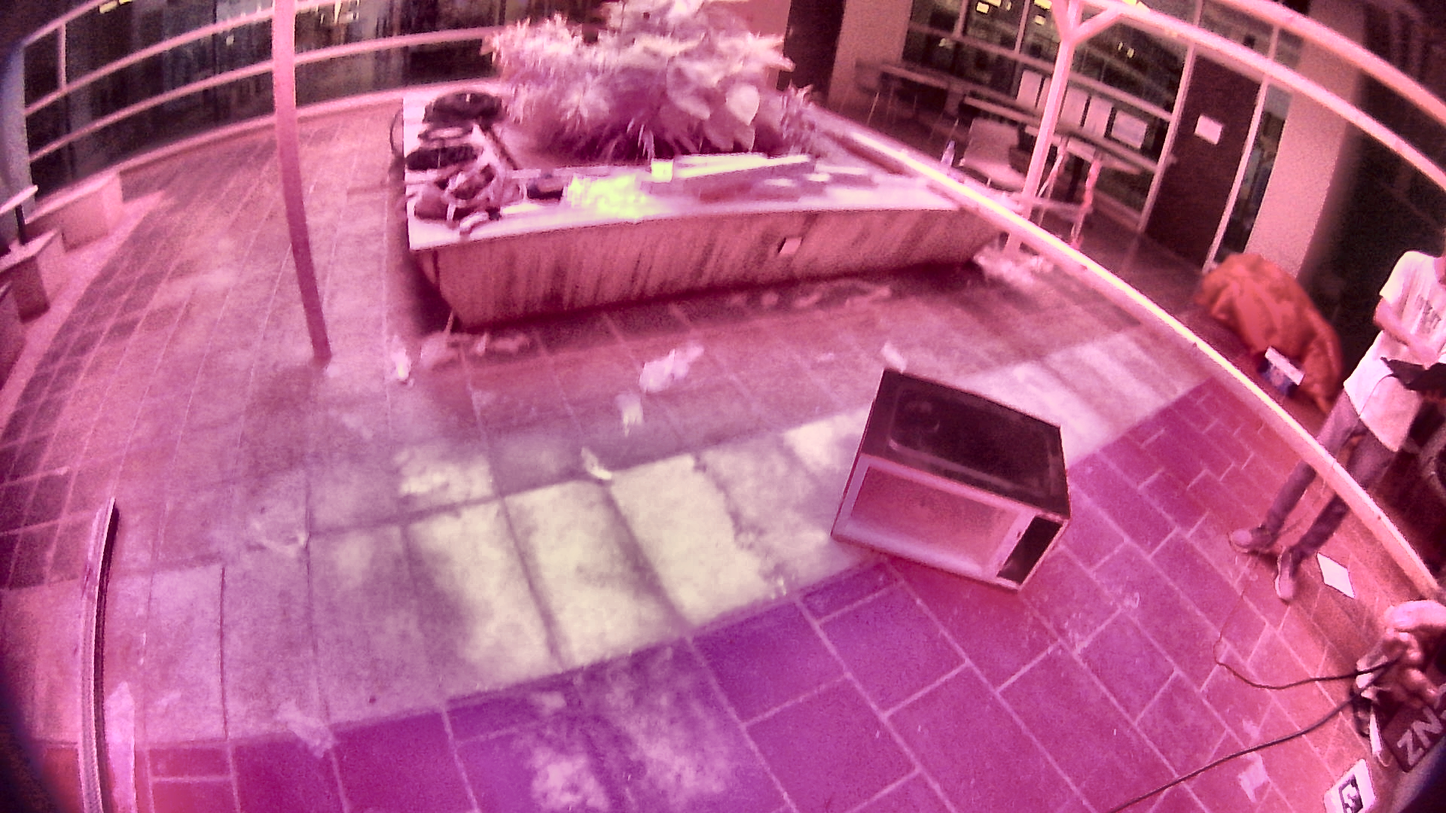MicroWave: (825, 345, 1081, 605)
